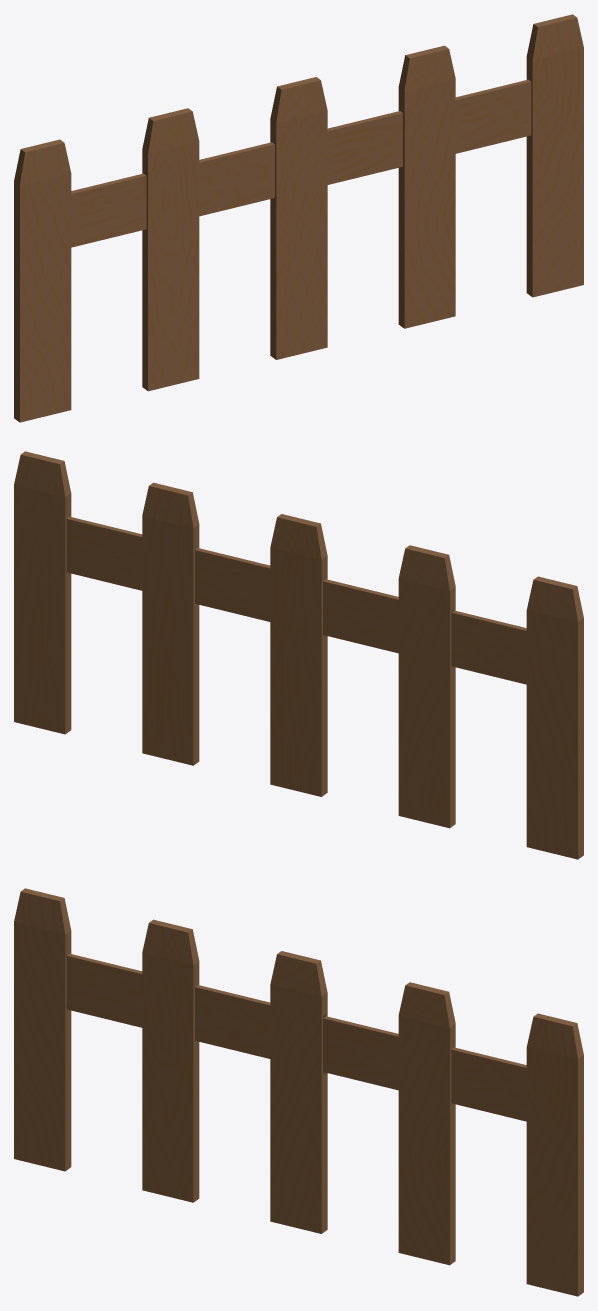
Rendered from fence_001.fbx.
3 views of the same model, one above another, from view 1: azimuth 30°, elevation 25°; view 2: azimuth 150°, elevation 25°; view 3: azimuth 330°, elevation 25° (orthographic).
Parts seen in each view (by area): view 1: Fence; view 2: Fence; view 3: Fence.
Boxes of the visible parts, left/top/right/bottom form: Fence: left=14, top=14, right=583, bottom=422; Fence: left=14, top=451, right=583, bottom=859; Fence: left=14, top=888, right=583, bottom=1296.
Bounding box in the file's own units: 1100 × 500 × 20.
Materials: 1 (1 with a texture image).
